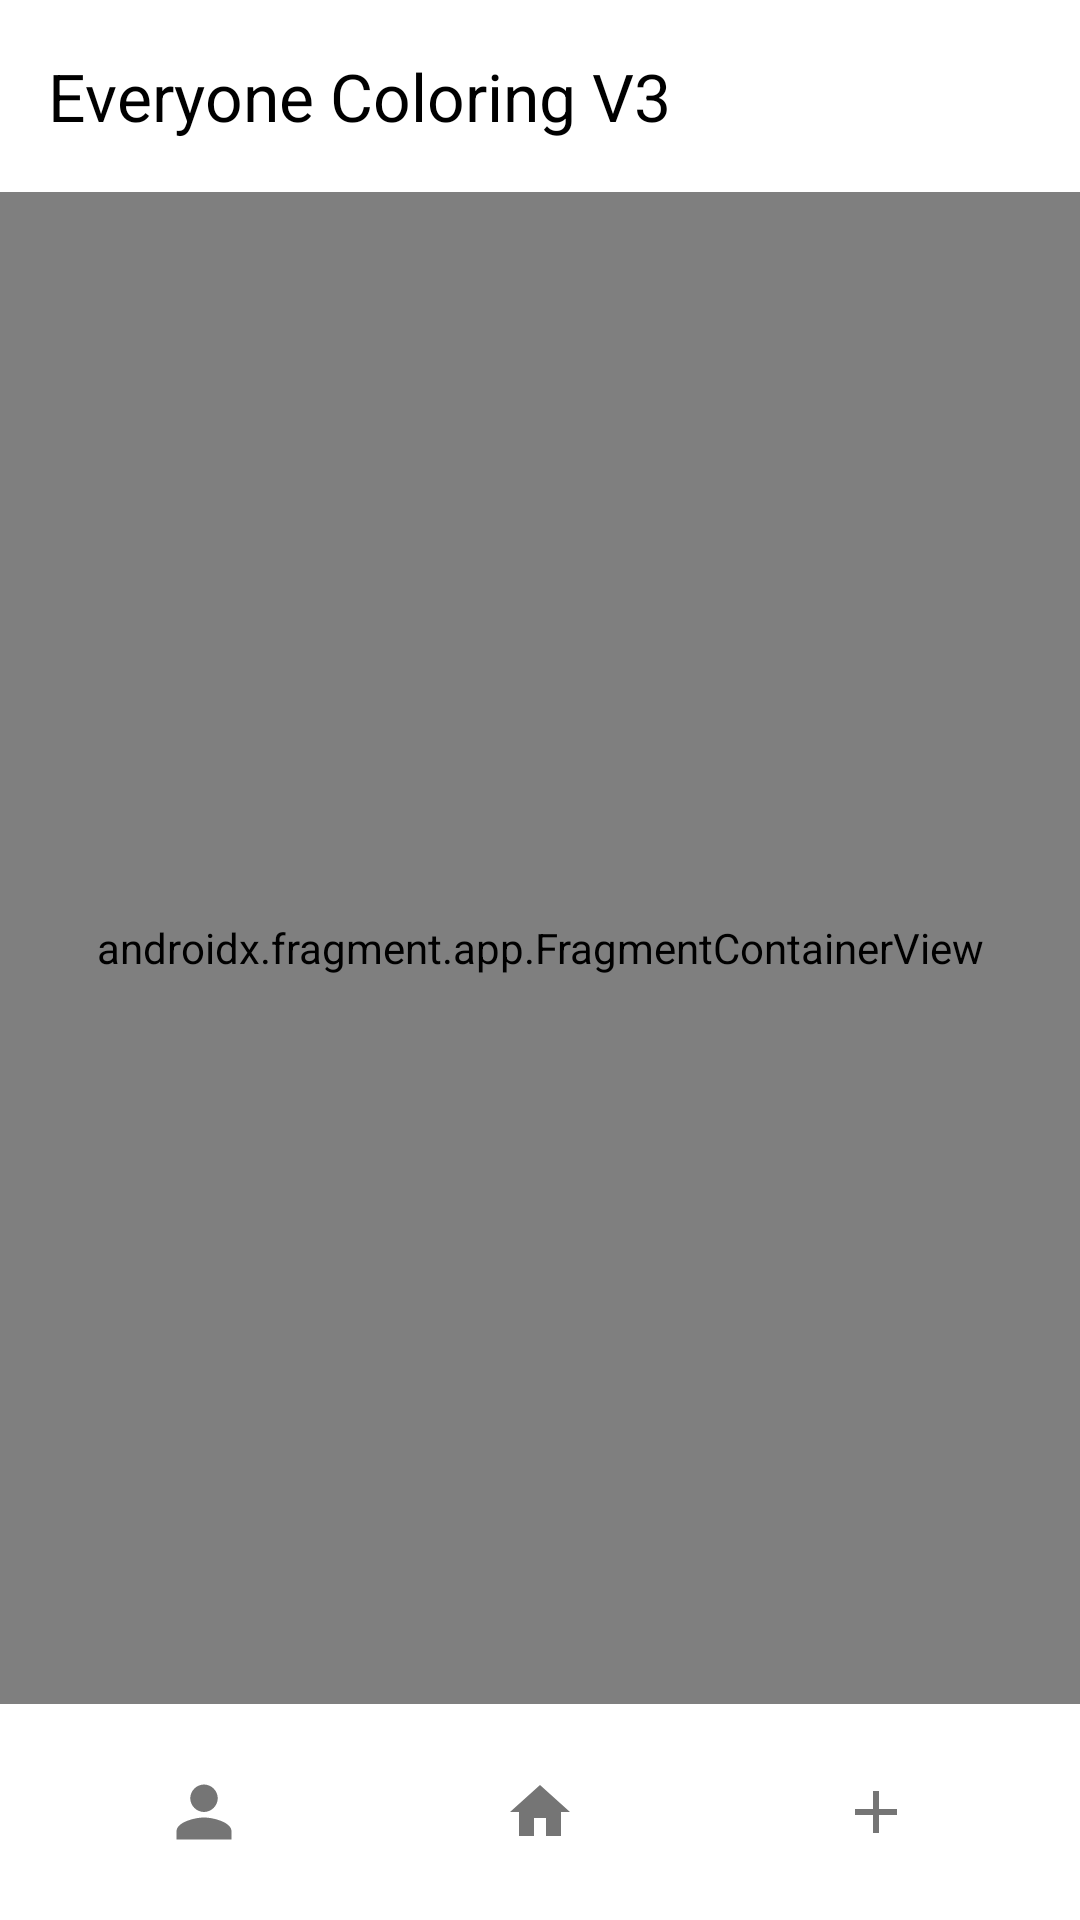

Screen size 1080 x 1920. Icon name, then its center in pixels as point (x, y):
Create: point (876, 1812)
Home: point (540, 1810)
User: point (204, 1812)
